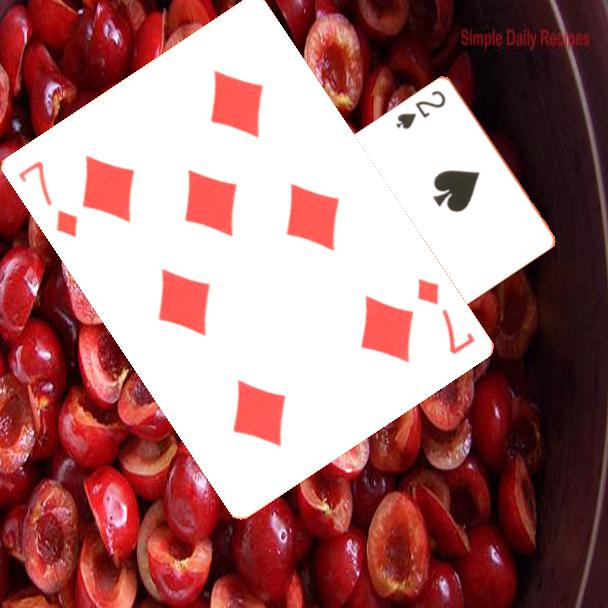d07: (13, 157, 80, 240), (412, 274, 478, 358)
s02: (392, 86, 449, 132)
